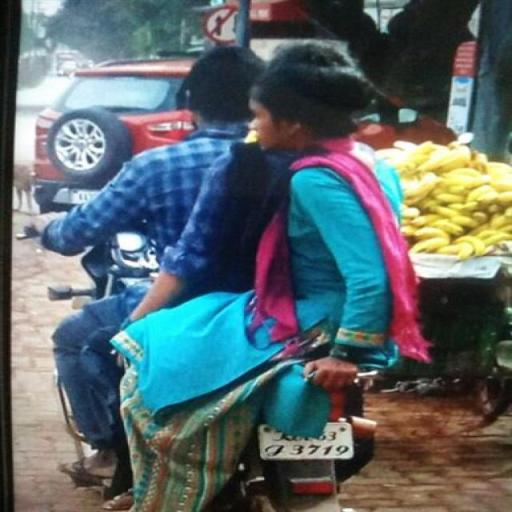tripple riding: (33, 38, 406, 345)
